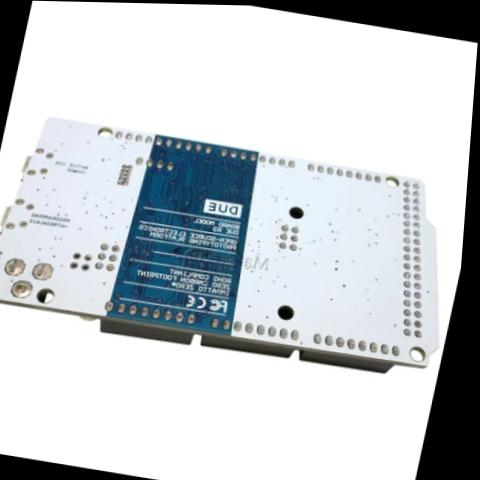Arduino-Due: (0, 88, 475, 396)
